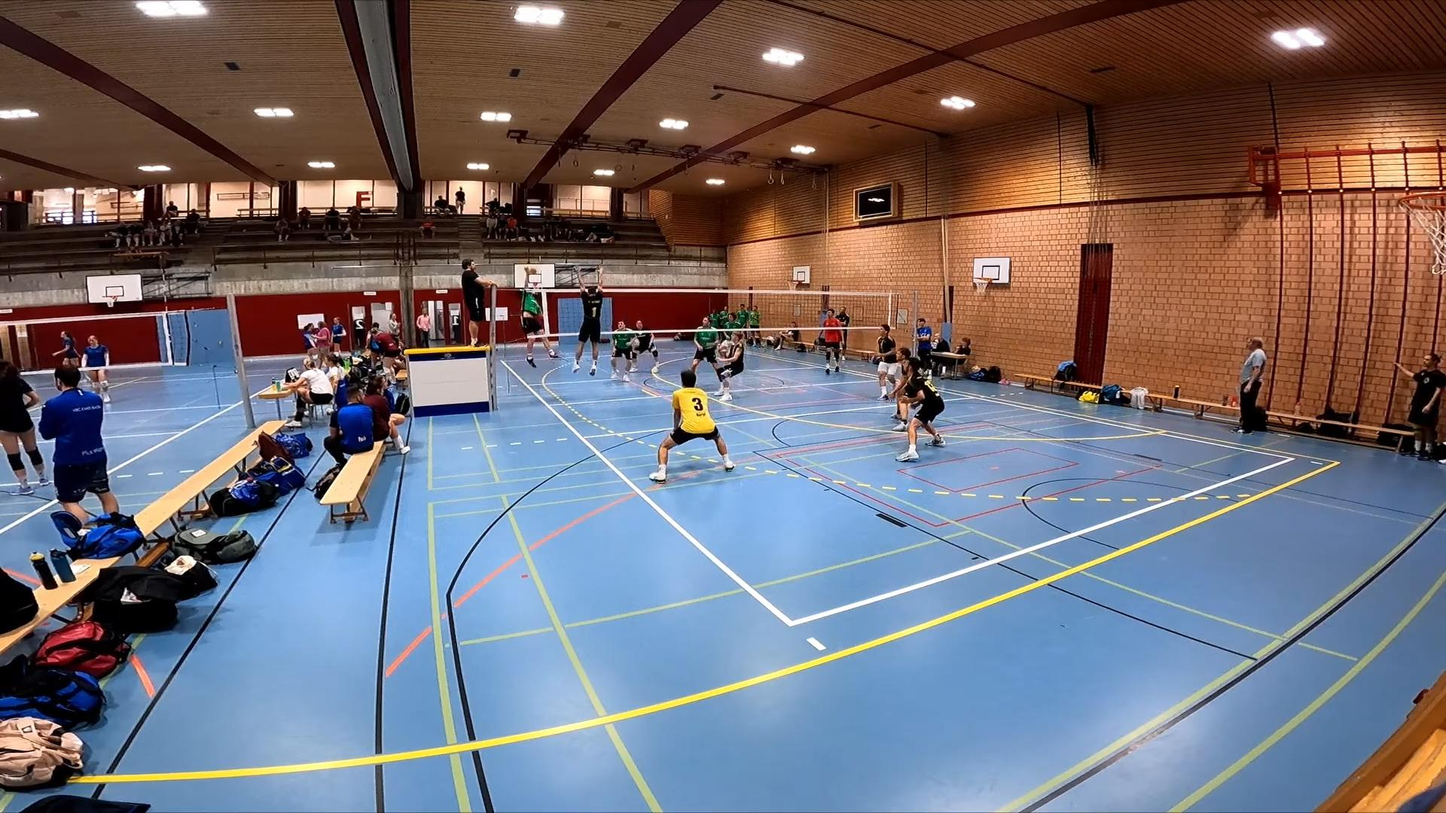Attack: (511, 263, 561, 371)
Block: (570, 270, 612, 379)
Player: (649, 370, 734, 482), (896, 357, 944, 461), (888, 346, 912, 431), (714, 331, 743, 401), (877, 324, 899, 399), (690, 317, 718, 373), (630, 320, 657, 374), (611, 320, 633, 382), (822, 308, 842, 373)
ball: (522, 265, 541, 279)
